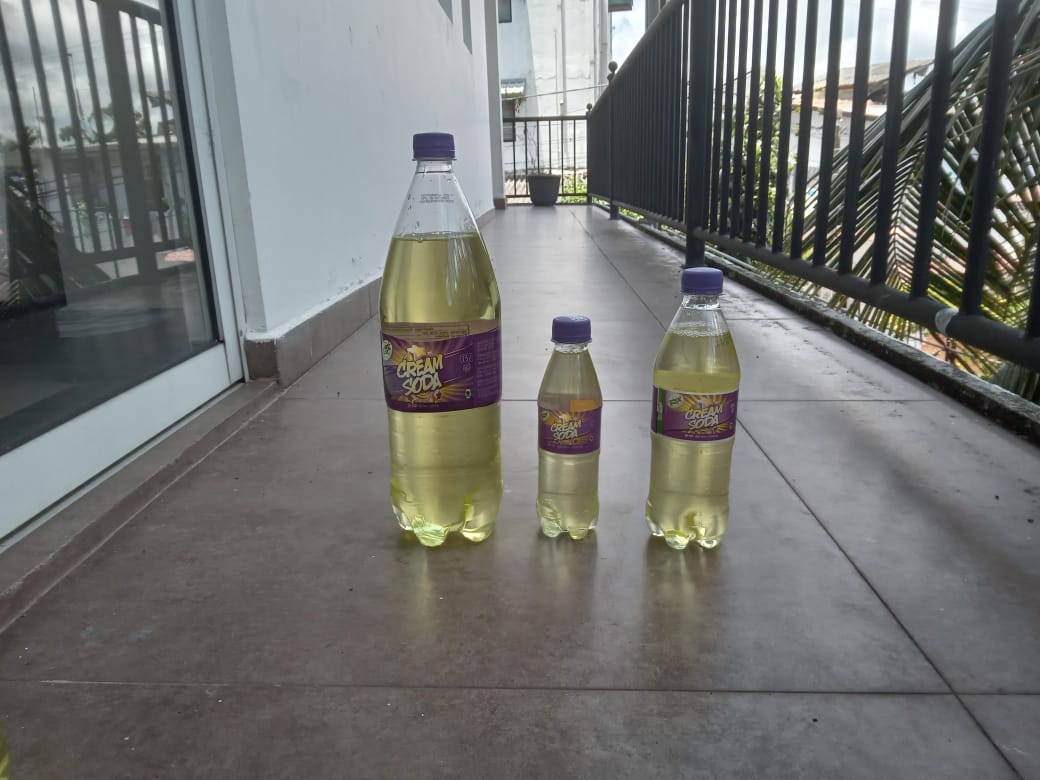L: (379, 132, 499, 545)
S: (645, 265, 739, 548)
Xs: (534, 317, 602, 540)
